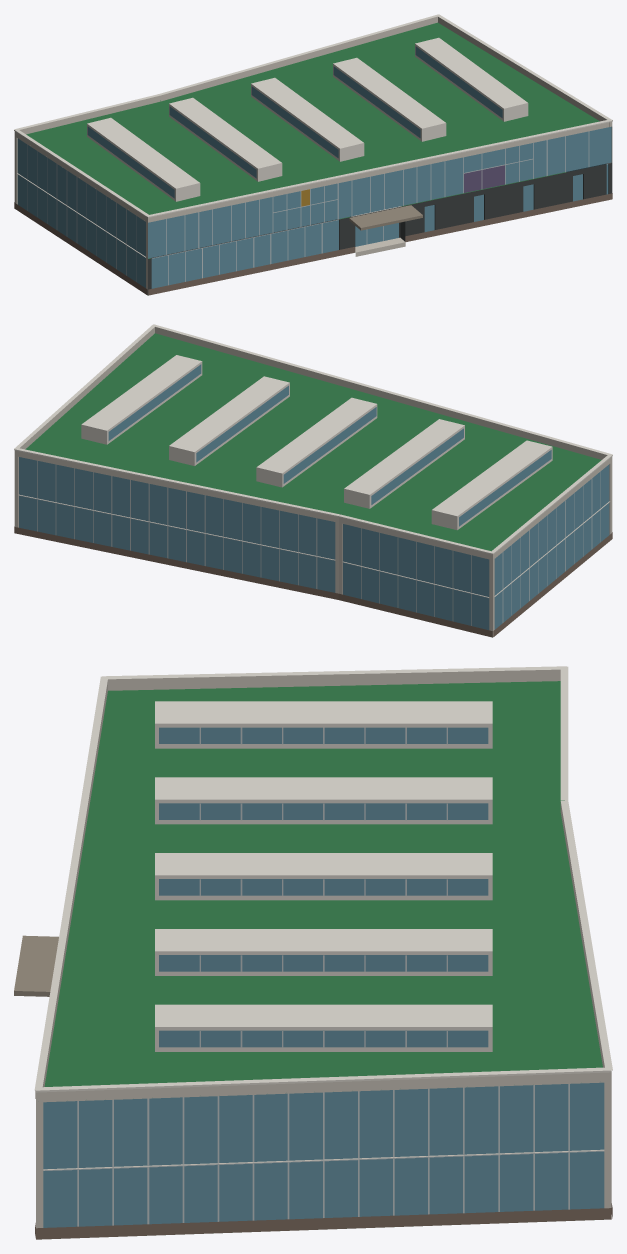
3 views of the same model, one above another, from view 1: azimuth 30°, elevation 25°; view 2: azimuth 150°, elevation 25°; view 3: azimuth 270°, elevation 25° (orthographic). The views are drawn at different scales.
Parts seen in each view (by area): view 1: facility-1436367102__glass, facility-1436367102__roof, facility-1436367102__trim, facility-1436367102__parapet, facility-1436367102__wall2, facility-1436367102__base, facility-1436367102__frame, facility-1436367102__canopy, facility-1436367102__wall, facility-1436367102__violetPanel, facility-1436367102__entranceThreshold_0; view 2: facility-1436367102__glass, facility-1436367102__roof, facility-1436367102__trim, facility-1436367102__parapet, facility-1436367102__base, facility-1436367102__frame, facility-1436367102__wall; view 3: facility-1436367102__roof, facility-1436367102__glass, facility-1436367102__trim, facility-1436367102__parapet, facility-1436367102__base, facility-1436367102__frame, facility-1436367102__wall, facility-1436367102__canopy.
Part boxes in pixels (<box>): facility-1436367102__glass: <box>17,46,611,288</box>; facility-1436367102__roof: <box>26,22,599,258</box>; facility-1436367102__trim: <box>14,14,612,217</box>; facility-1436367102__parapet: <box>14,16,612,222</box>; facility-1436367102__wall2: <box>148,163,612,294</box>; facility-1436367102__base: <box>14,193,612,295</box>; facility-1436367102__frame: <box>18,131,608,285</box>; facility-1436367102__canopy: <box>349,205,422,230</box>; facility-1436367102__wall: <box>14,127,612,294</box>; facility-1436367102__violetPanel: <box>464,165,504,192</box>; facility-1436367102__entranceThreshold_0: <box>355,237,405,256</box>; facility-1436367102__glass: <box>19,364,609,630</box>; facility-1436367102__roof: <box>25,333,601,551</box>; facility-1436367102__trim: <box>14,324,612,554</box>; facility-1436367102__parapet: <box>14,327,612,559</box>; facility-1436367102__base: <box>14,526,612,637</box>; facility-1436367102__frame: <box>19,389,604,625</box>; facility-1436367102__wall: <box>14,455,612,636</box>; facility-1436367102__roof: <box>44,681,602,1235</box>; facility-1436367102__glass: <box>43,727,604,1227</box>; facility-1436367102__trim: <box>34,666,612,1092</box>; facility-1436367102__parapet: <box>35,669,611,1101</box>; facility-1436367102__base: <box>35,1203,612,1239</box>; facility-1436367102__frame: <box>43,727,604,1226</box>; facility-1436367102__wall: <box>36,1081,611,1228</box>; facility-1436367102__canopy: <box>14,935,58,996</box>.
Bounding box in the file's own units: 47.57 × 8.94 × 28.38.
